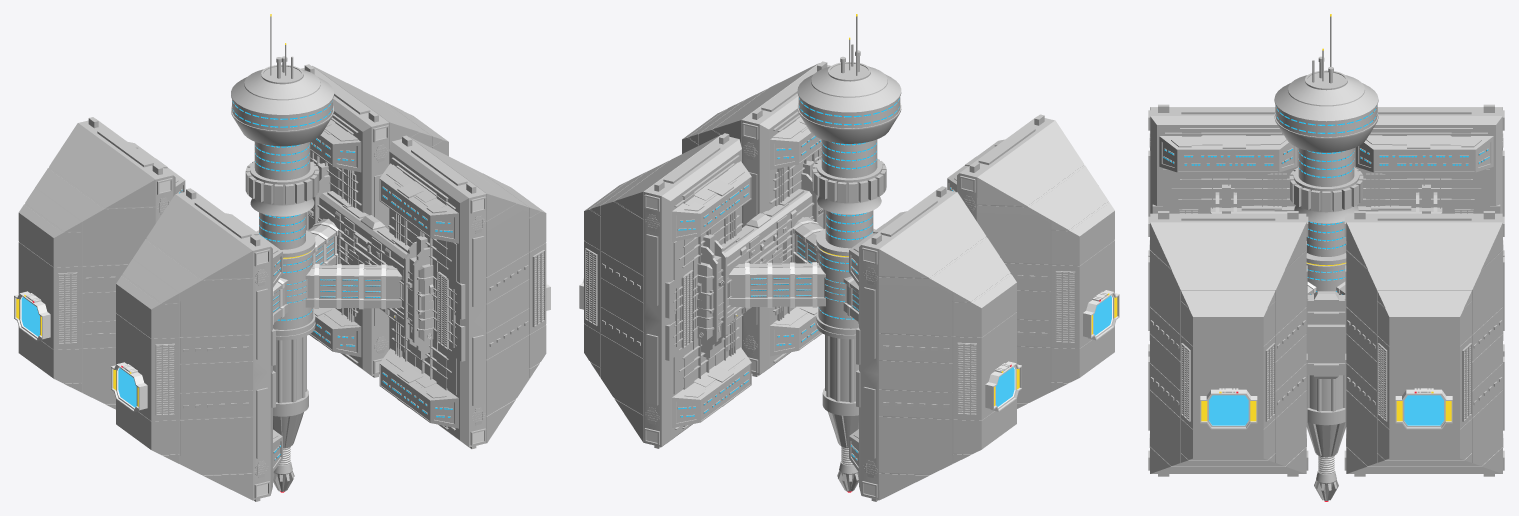
File: space.gltf
3 renders of one model, left to right at view 1: azimuth 30°, elevation 25°; view 2: azimuth 150°, elevation 25°; view 3: azimuth 270°, elevation 25°, orthographic.
Visible parts, largest first — view 1: HullPlates, OuterSection, CentralSection, MainGreebles2, Bridges, CentralSectionGreebles, MainGreebles, Docks, OuterSectionConnectors, OuterSectionHolders; view 2: HullPlates, OuterSection, CentralSection, MainGreebles2, Bridges, CentralSectionGreebles, MainGreebles, Docks, OuterSectionConnectors, OuterSectionHolders; view 3: HullPlates, OuterSection, CentralSection, MainGreebles2, Docks, OuterSectionConnectors, CentralSectionGreebles, OuterSectionHolders, MainGreebles, Antennas.
Boxes of the visible parts, left/top/right/bottom form: HullPlates: left=18, top=66, right=546, bottom=500; OuterSection: left=19, top=64, right=545, bottom=501; CentralSection: left=231, top=64, right=333, bottom=492; MainGreebles2: left=128, top=114, right=465, bottom=438; Bridges: left=273, top=218, right=402, bottom=324; CentralSectionGreebles: left=245, top=161, right=319, bottom=491; MainGreebles: left=308, top=191, right=434, bottom=338; Docks: left=14, top=280, right=550, bottom=412; OuterSectionConnectors: left=317, top=192, right=433, bottom=341; OuterSectionHolders: left=306, top=163, right=429, bottom=359; HullPlates: left=584, top=63, right=1114, bottom=500; OuterSection: left=584, top=61, right=1114, bottom=501; CentralSection: left=797, top=62, right=901, bottom=492; MainGreebles2: left=665, top=111, right=1004, bottom=438; Bridges: left=728, top=217, right=858, bottom=323; CentralSectionGreebles: left=812, top=158, right=886, bottom=491; MainGreebles: left=696, top=189, right=823, bottom=337; Docks: left=579, top=278, right=1119, bottom=411; OuterSectionConnectors: left=696, top=190, right=814, bottom=340; OuterSectionHolders: left=701, top=160, right=825, bottom=358; HullPlates: left=1150, top=107, right=1502, bottom=473; OuterSection: left=1148, top=104, right=1504, bottom=476; CentralSection: left=1274, top=70, right=1378, bottom=501; MainGreebles2: left=1152, top=128, right=1500, bottom=213; Docks: left=1200, top=388, right=1452, bottom=429; OuterSectionConnectors: left=1210, top=207, right=1442, bottom=378; CentralSectionGreebles: left=1289, top=167, right=1363, bottom=500; OuterSectionHolders: left=1215, top=184, right=1437, bottom=213; MainGreebles: left=1241, top=205, right=1411, bottom=375; Antennas: left=1312, top=14, right=1333, bottom=83.
Size of the model in its own units: 35.97 by 39.95 by 26.77.
